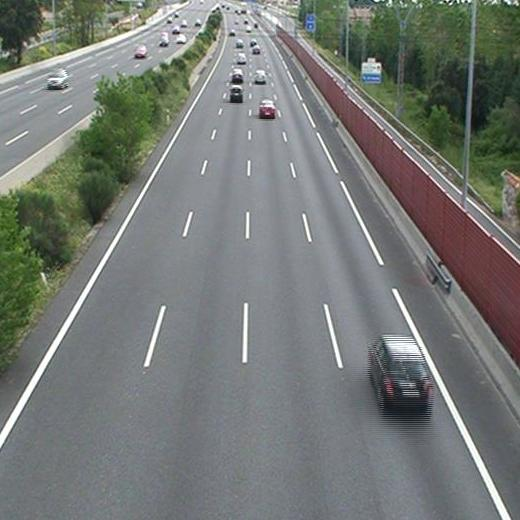car: (369, 338, 429, 401), (260, 100, 275, 116), (230, 86, 243, 98), (253, 71, 266, 82), (232, 69, 243, 80), (236, 54, 246, 63), (252, 45, 261, 53)
